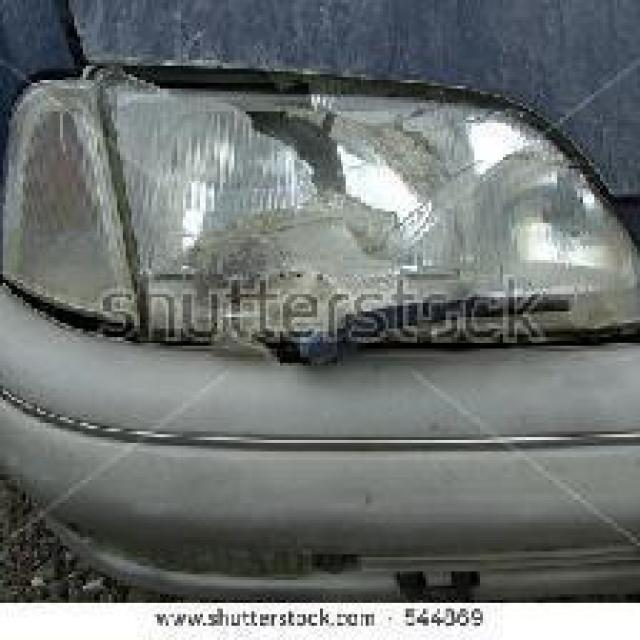damaged: (77, 63, 614, 363)
